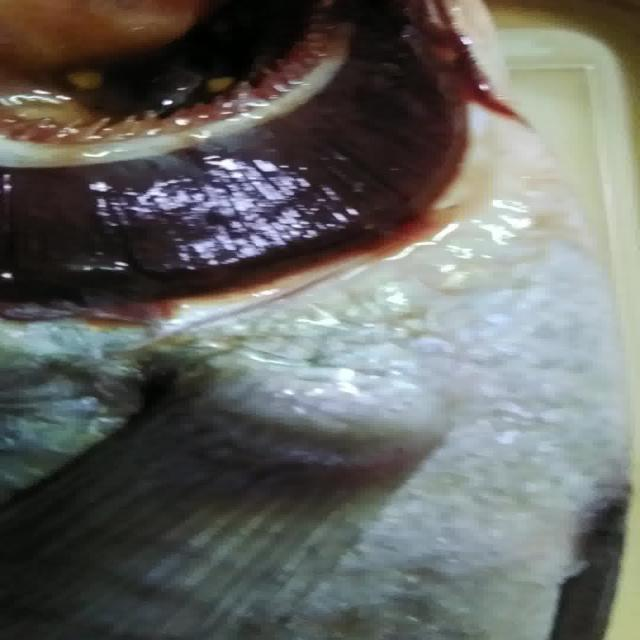Non-Fresh: (2, 9, 512, 329)
